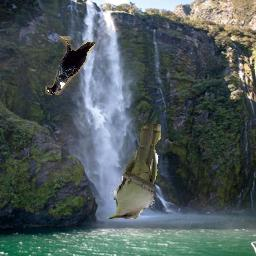Crow: (45, 37, 95, 96)
Cuckoo: (107, 121, 162, 220)
